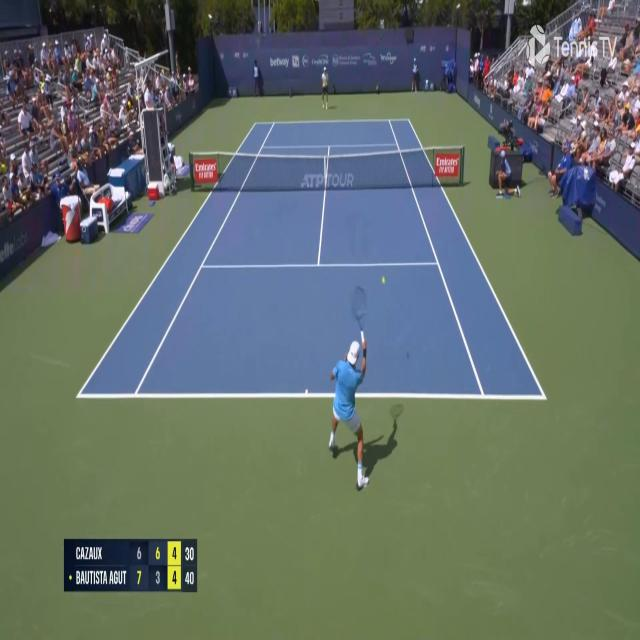tennis-player: (327, 330, 368, 497), (320, 65, 334, 110)
